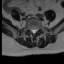CCS_normal: (33, 27, 34, 35)
LFS_normal: (37, 25, 39, 33)
LLS_normal: (34, 27, 37, 35)
RFS_normal: (29, 26, 31, 33)
RLS_normal: (31, 27, 33, 34)
